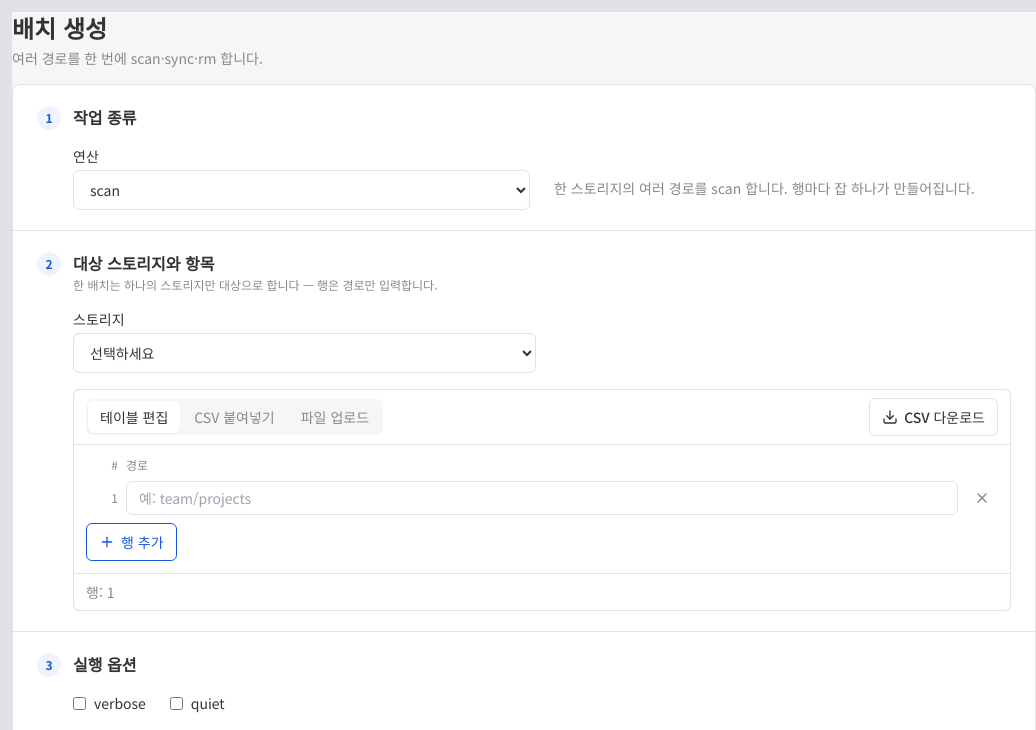
Scenario: 대상 구획 캡션은 연산을 따른다 — scan 은 스토리지 하나, sync 는 소스 → 목적지 한 쌍
The image size is (1036, 730).
Check: the dropdown labelled "스토리지" is shown, box [73,333,536,373]
Check: the text "한 배치는 하나의 스토리지만 대상으로 합니다 — 행은 경로만 입력합니다." is shown, box [73,277,438,293]
Select "sync" in the dropdown labelled "연산": (302, 190) [73,170,530,210]
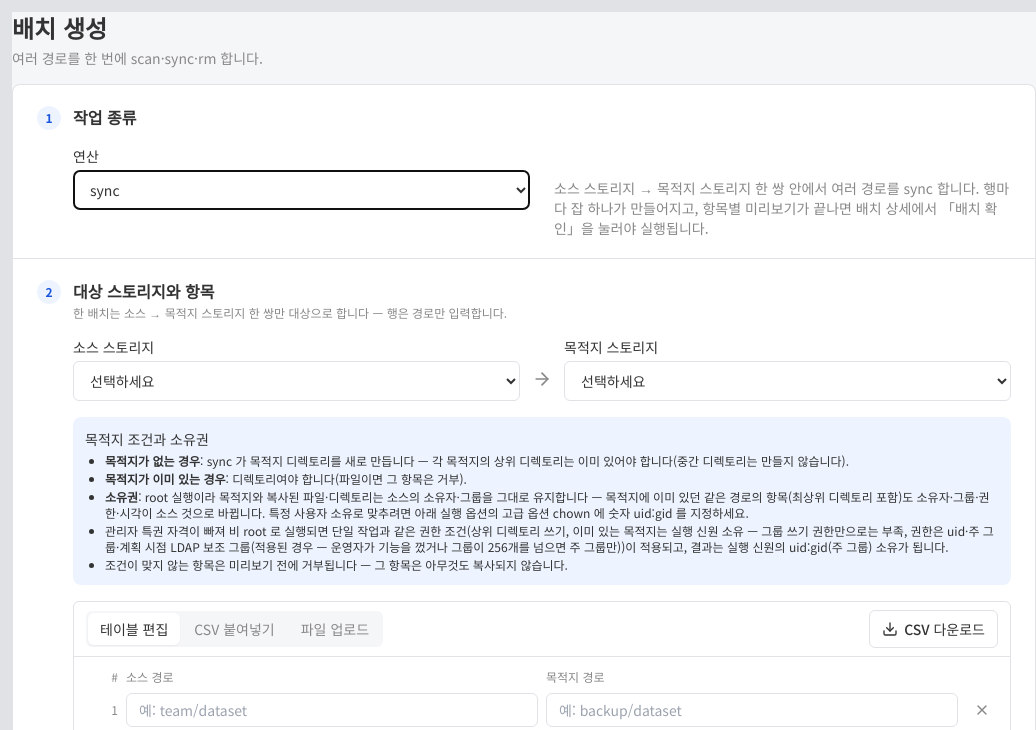
Check: the text "한 배치는 소스 → 목적지 스토리지 한 쌍만 대상으로 합니다 — 행은 경로만 입력합니다." is shown, box [73,305,507,321]
Check: the text "하나의 스토리지만" is gone
